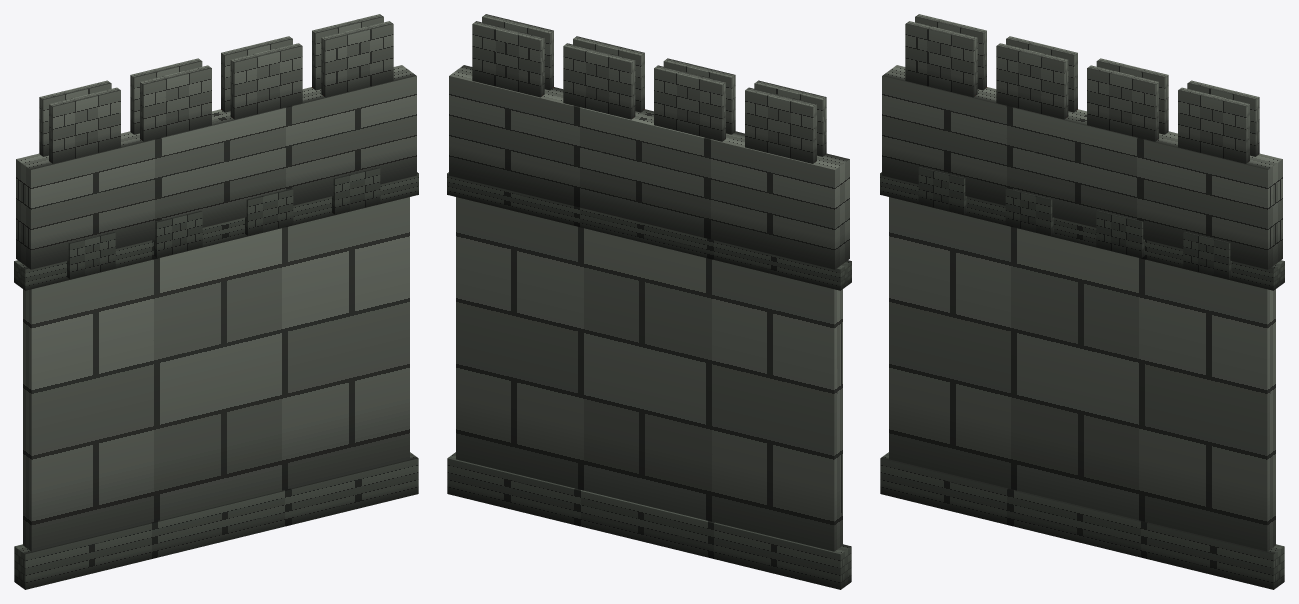
Rendered from wall_machicol_dark.gltf.
The picture shows the model from 3 angles, left to right: view 1: azimuth 30°, elevation 25°; view 2: azimuth 150°, elevation 25°; view 3: azimuth 330°, elevation 25°; orthographic projection.
Parts seen in each view (by area): view 1: wall_machicol_dark; view 2: wall_machicol_dark; view 3: wall_machicol_dark.
Boxes of the visible parts, x1,y1,x2,y2 form: wall_machicol_dark: [14, 14, 418, 589]; wall_machicol_dark: [447, 14, 851, 589]; wall_machicol_dark: [880, 14, 1284, 589].
Bounding box in the file's own units: 1.04 × 1.21 × 0.074.
1 material, 1 textured.
